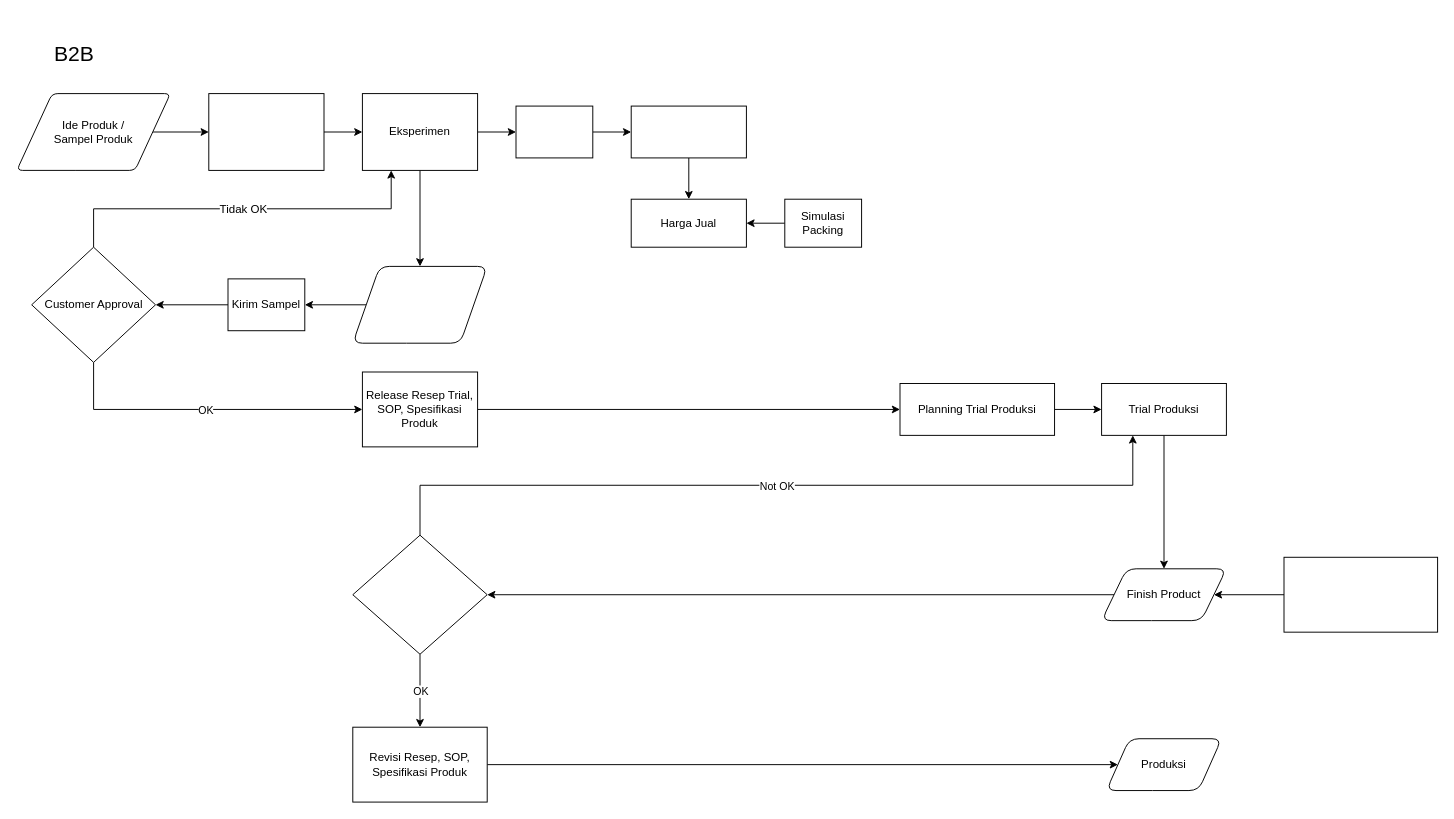
This 1454x819 diagram has some shape labels left out. The shapes that lost their labels are listed below. From the top down, each one's centre as x and y in pixels, then its label:
At (266,131): "Form Permintaan Sampel".
At (554,131): "HPP".
At (688,131): "Perhitungan Harga".
At (419,304): "Sampel Produk, Ingredient List, Spesifikasi".
At (419,594): "Pengecekan R&D".
At (1360,594): "Analisa Organoleptik, Kimia, Mikrobiologi".
